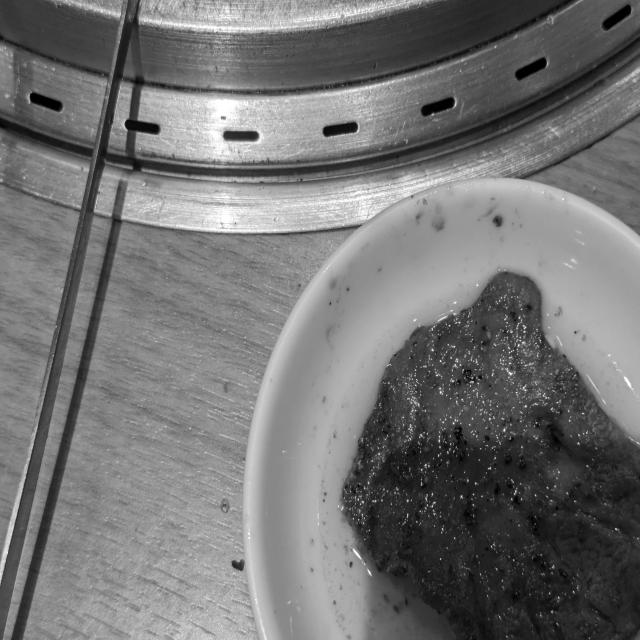OK cooked beef,: (340, 258, 640, 640)
